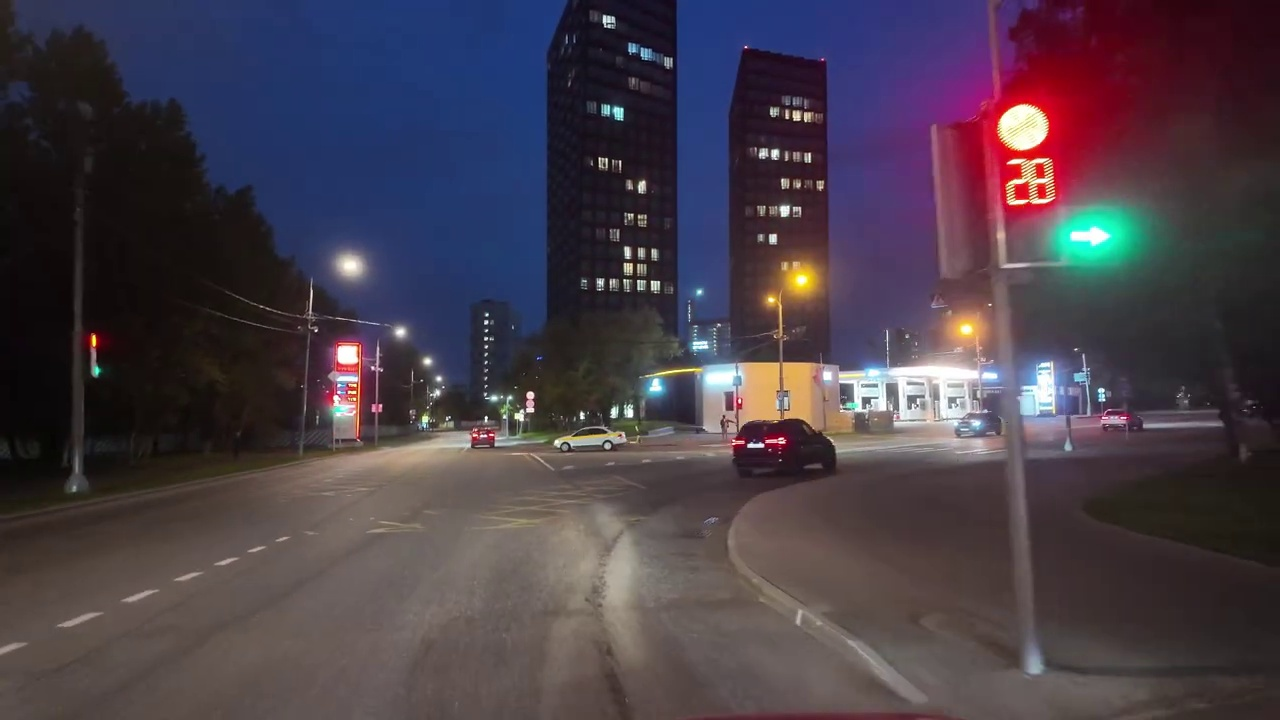acesa: (998, 105, 1048, 152), (785, 264, 819, 297), (335, 251, 367, 281), (951, 315, 980, 343), (389, 323, 410, 344)
